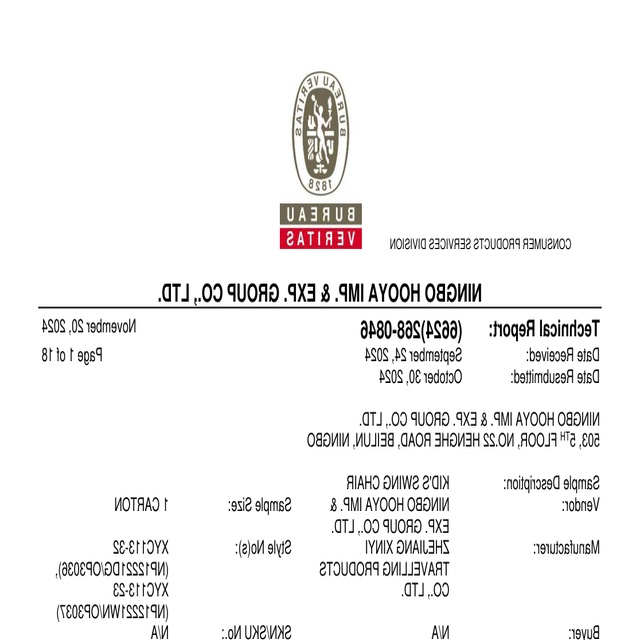bureau_veritas: (282, 71, 362, 249)
